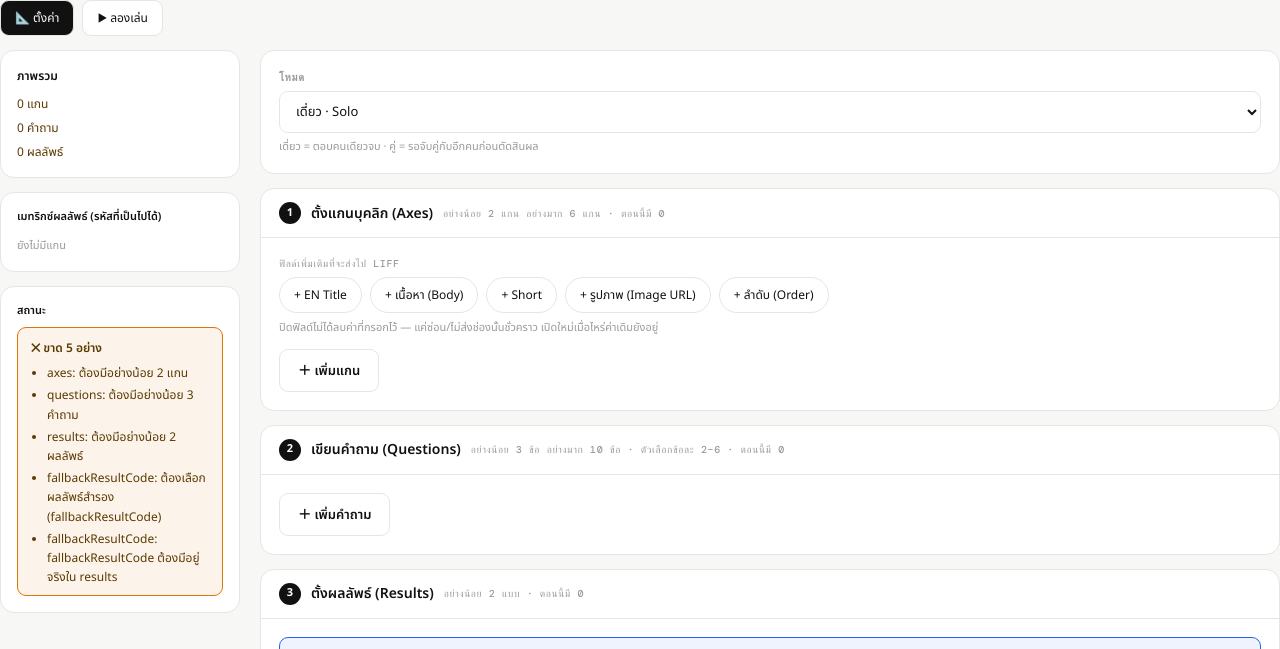
Test: ฟิลด์เสริมของแกน (labelEn/body/short/imageUrl/order) — ปุ่ม toggle ระดับทั้งลิสต์ › ปุ่ม "+ EN Title" เป็น toggle ระดับทั้งลิสต์ — มีผลไม่ว่าจะไปเปิดดูแกนไหนก็ตาม ไม่ใช่แค่แกนที่เปิดอยู่ตอนกด
Click the button "＋ เพิ่มแกน": (329, 370) top-left (279, 349), bottom-right (379, 392)
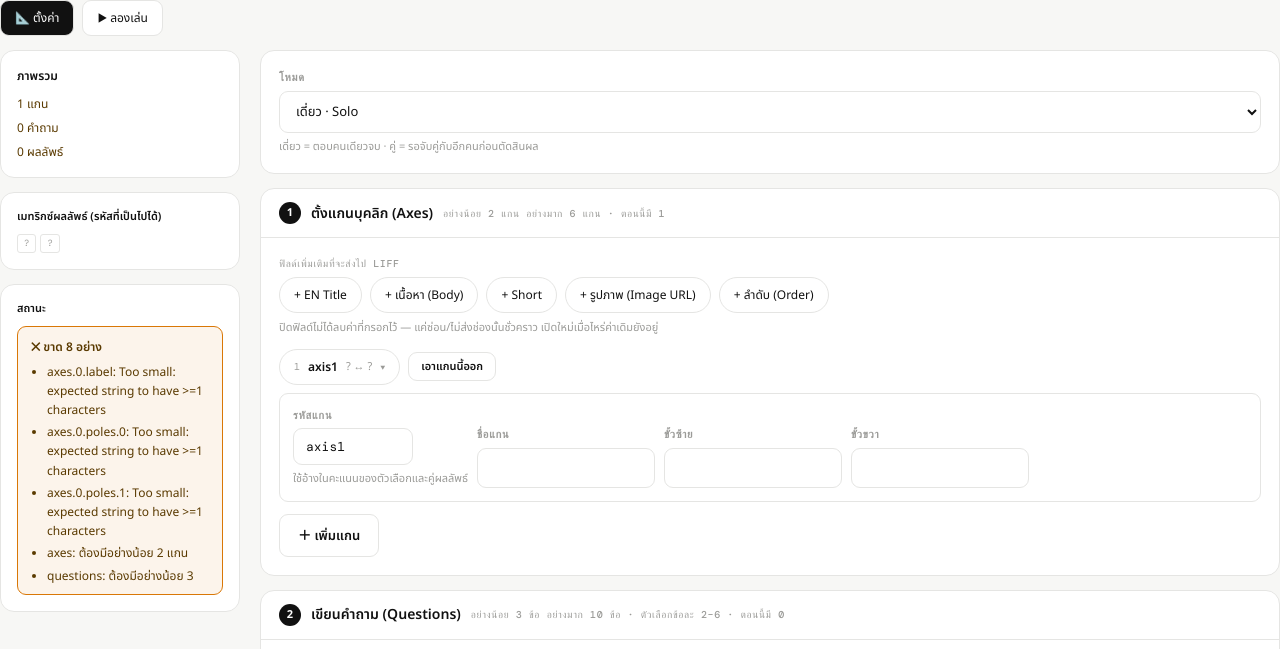
Click the button "＋ เพิ่มแกน": (329, 535) top-left (279, 514), bottom-right (379, 557)
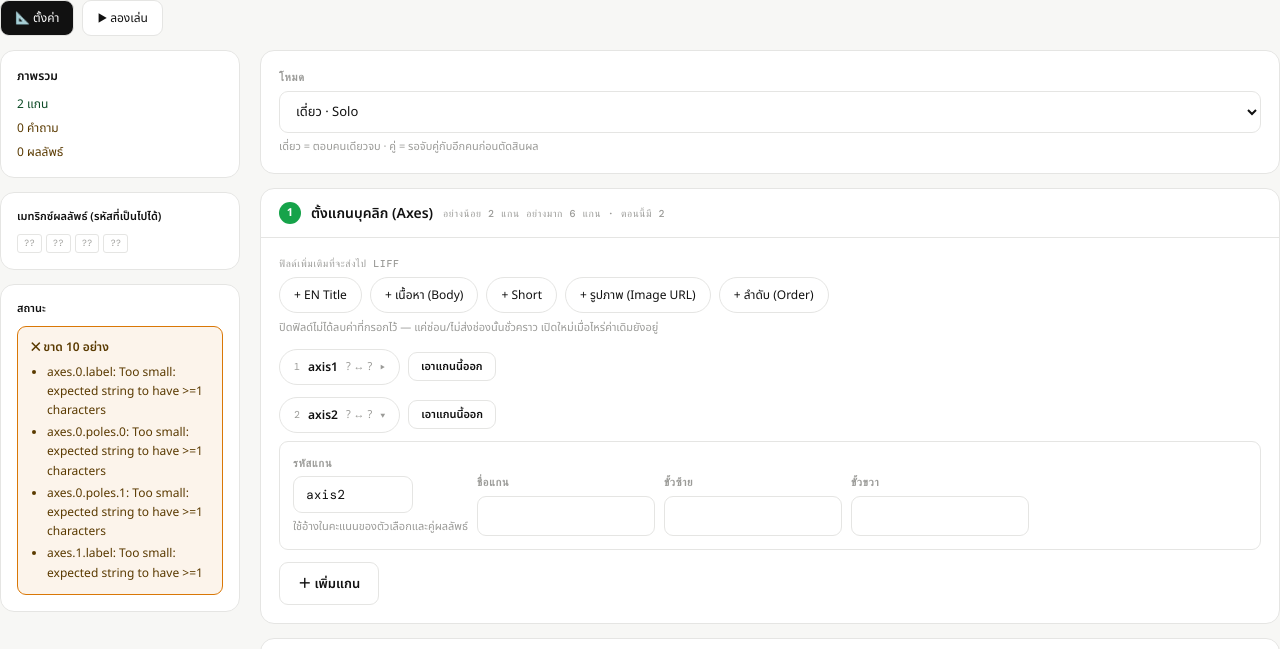
Click the button "+ EN Title": (320, 295) top-left (279, 277), bottom-right (362, 313)
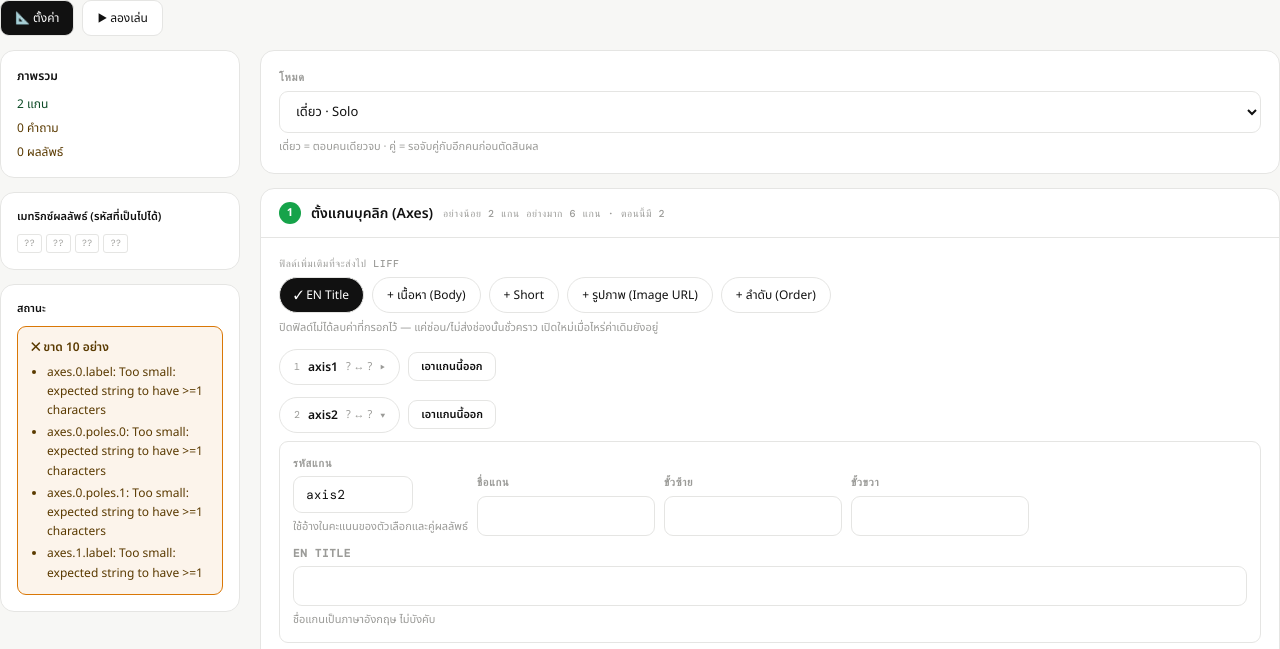
expect the field labelled "EN Title" is shown: met, box top-left (293, 566), bottom-right (1247, 606)
Click the button "2 axis2 ? ↔ ? ▾": (340, 415) top-left (279, 397), bottom-right (400, 433)
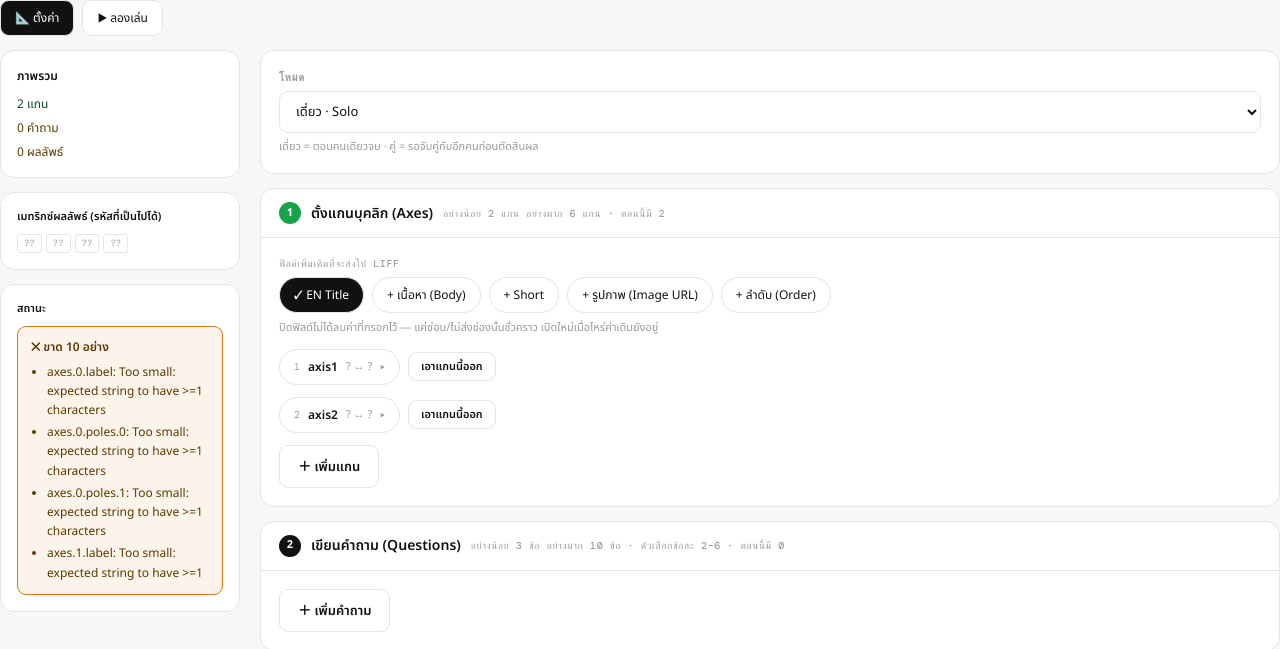
Click the button "1 axis1 ? ↔ ? ▸": (339, 367) top-left (279, 349), bottom-right (400, 385)
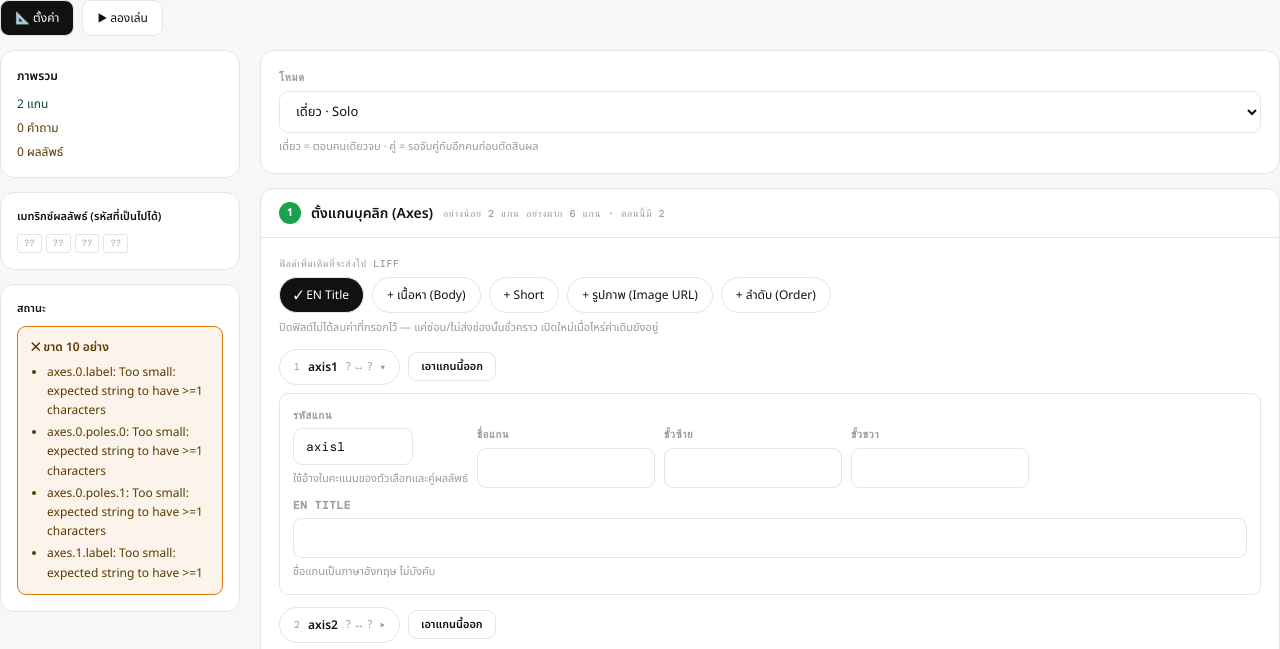
expect the field labelled "EN Title" is shown: met, box top-left (293, 518), bottom-right (1247, 558)
